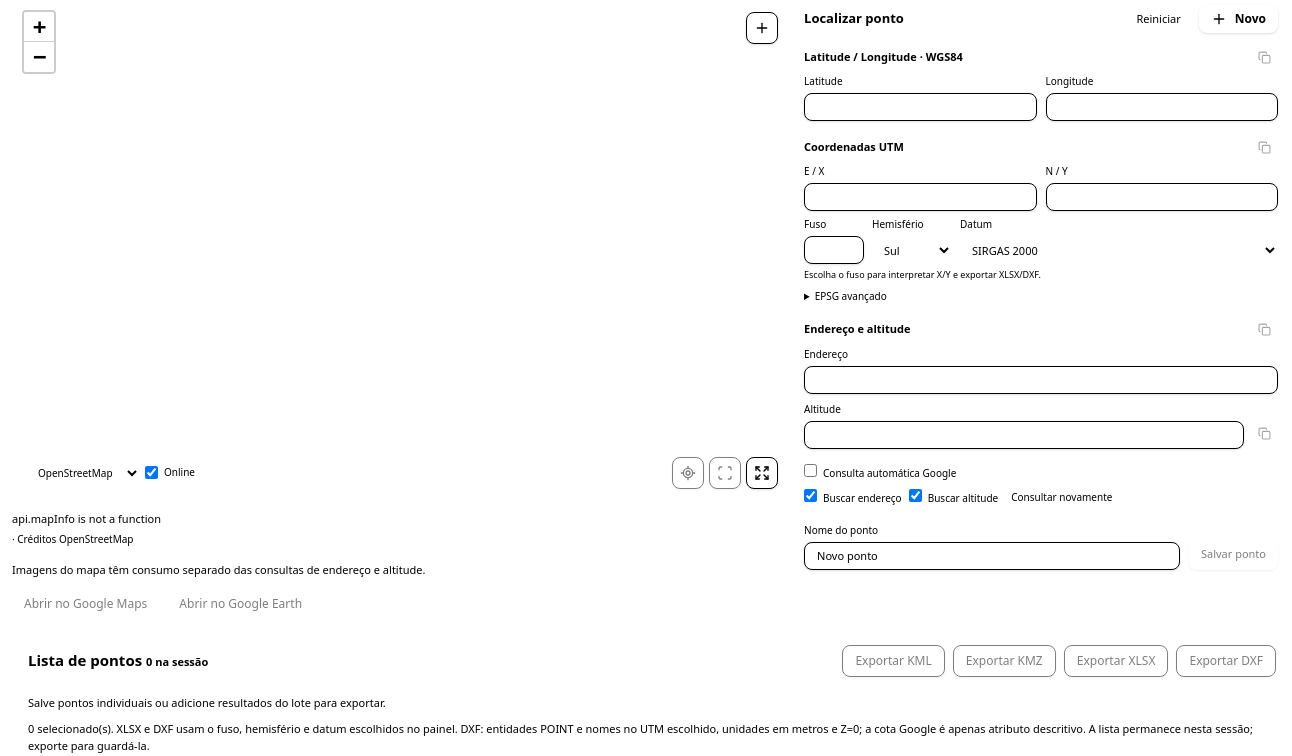
candidato escolhido é reconsultado pelas coordenadas e falha de quota suspende Google
The image size is (1292, 756).
Type "Rua" into the field labelled "Endereço". click: {"x": 1041, "y": 380}
box: top-left (804, 366), bottom-right (1278, 394)
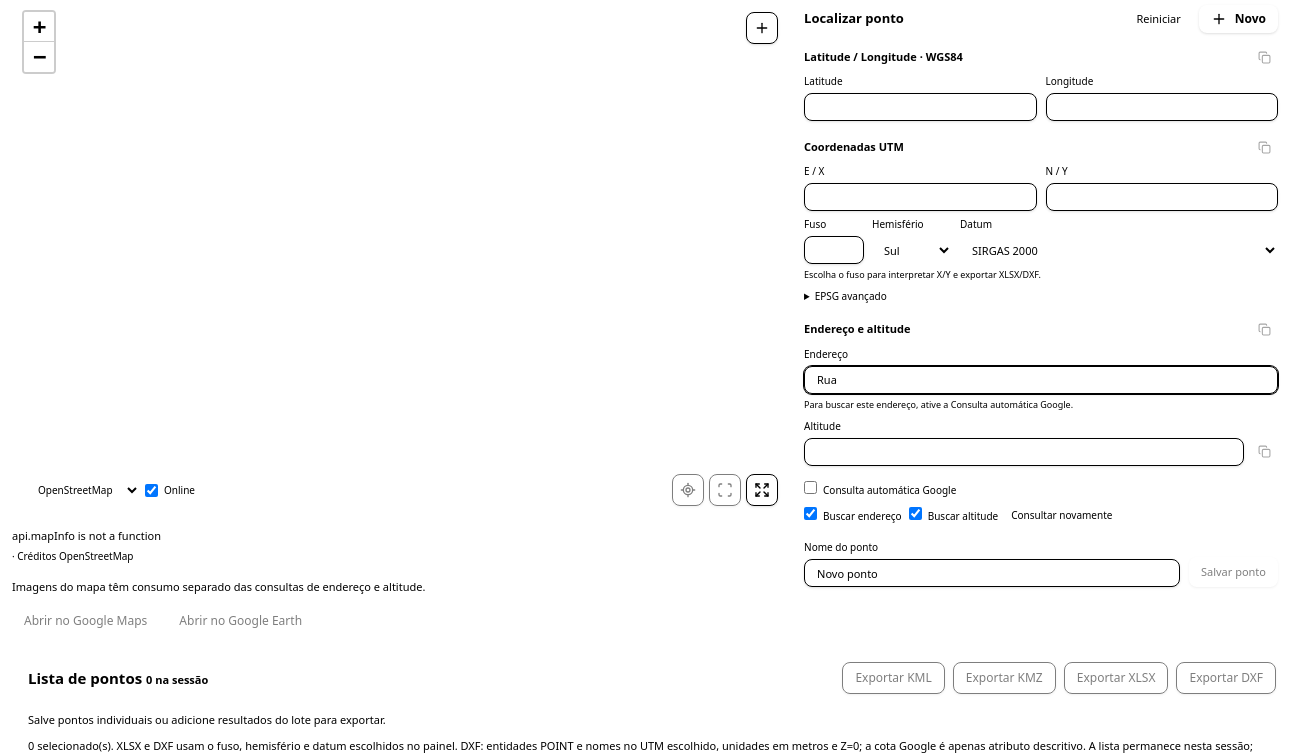
Click the checkbox labelled "Consulta automática Google". click: {"x": 810, "y": 488}
box: top-left (804, 481), bottom-right (817, 494)
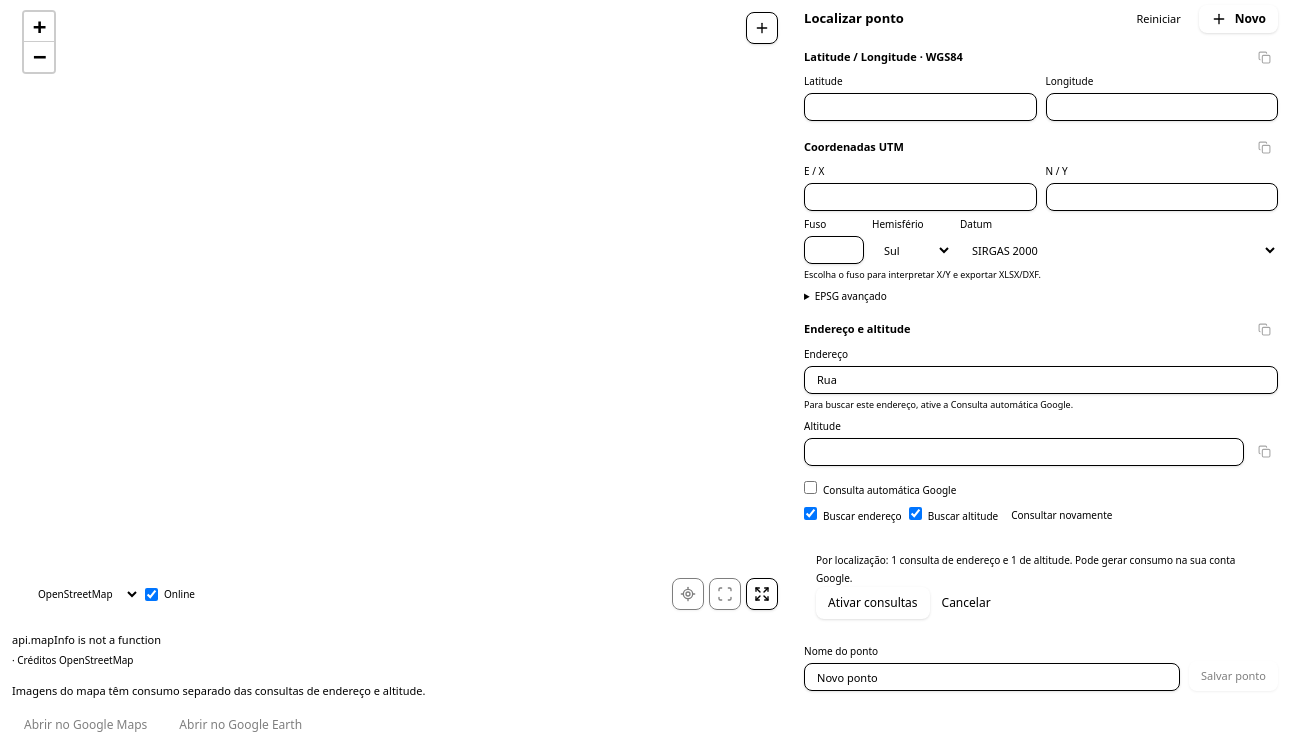
Click the button "Ativar consultas". click: {"x": 873, "y": 603}
box: top-left (816, 587), bottom-right (930, 619)
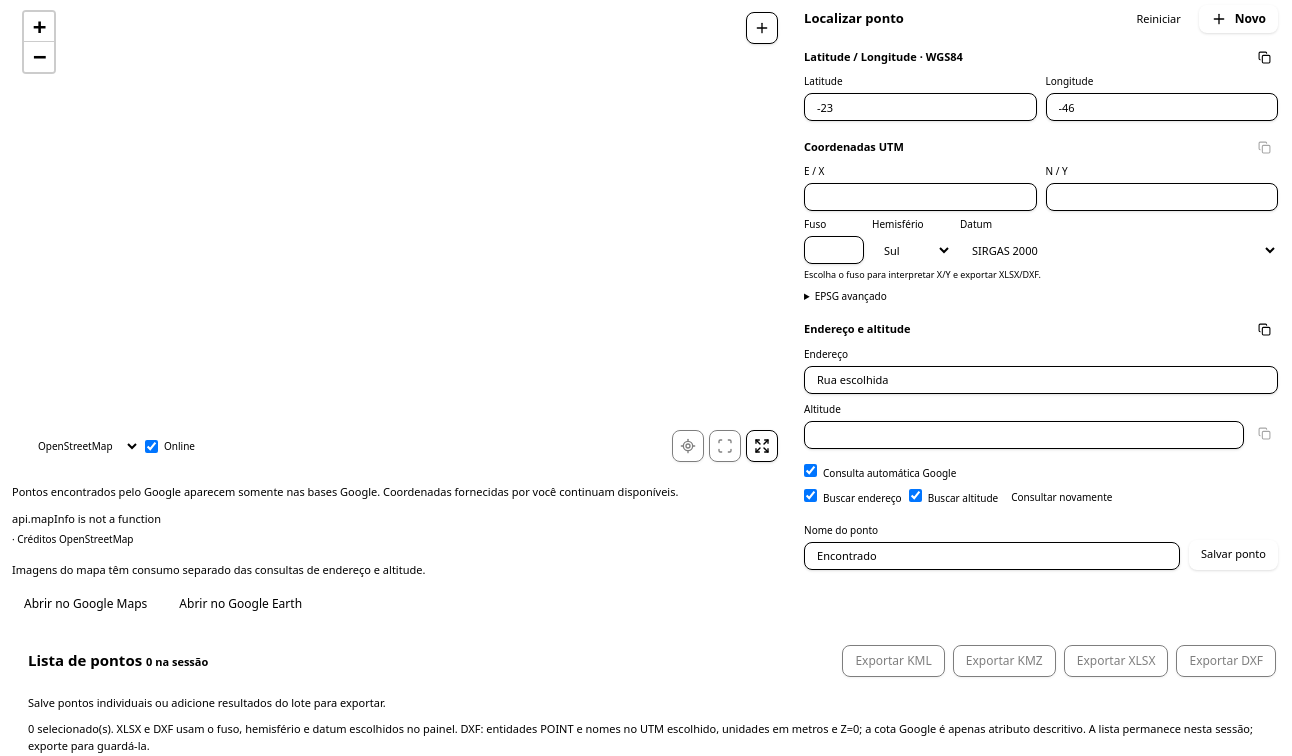
Result: the field showing "Rua escolhida" is shown at top-left (804, 366), bottom-right (1278, 394)
Click the button "Consultar novamente". click: {"x": 1062, "y": 498}
box: top-left (1005, 486), bottom-right (1118, 510)
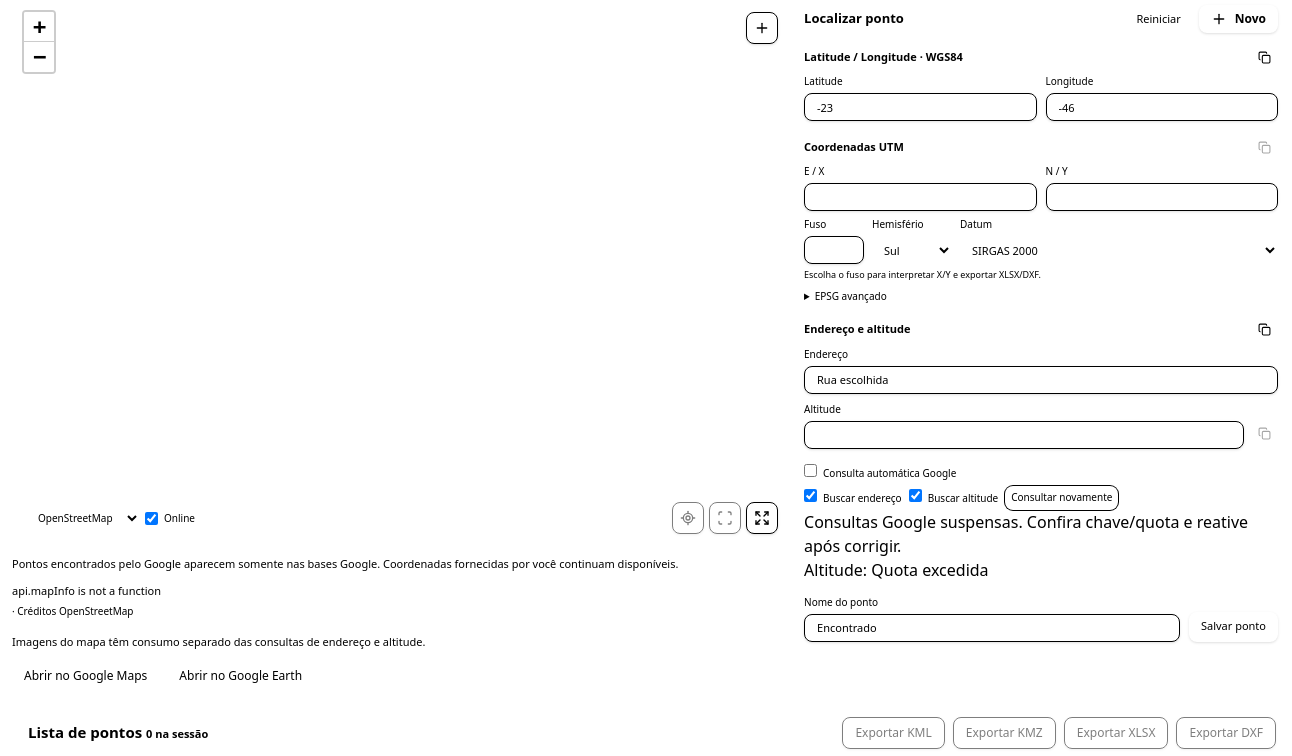
Result: the checkbox labelled "Consulta automática Google" is not checked at top-left (804, 464), bottom-right (817, 477)
Result: the text "Consultas Google suspensas. Confira chave/quota e reative após corrigir." is shown at top-left (804, 510), bottom-right (1278, 558)
